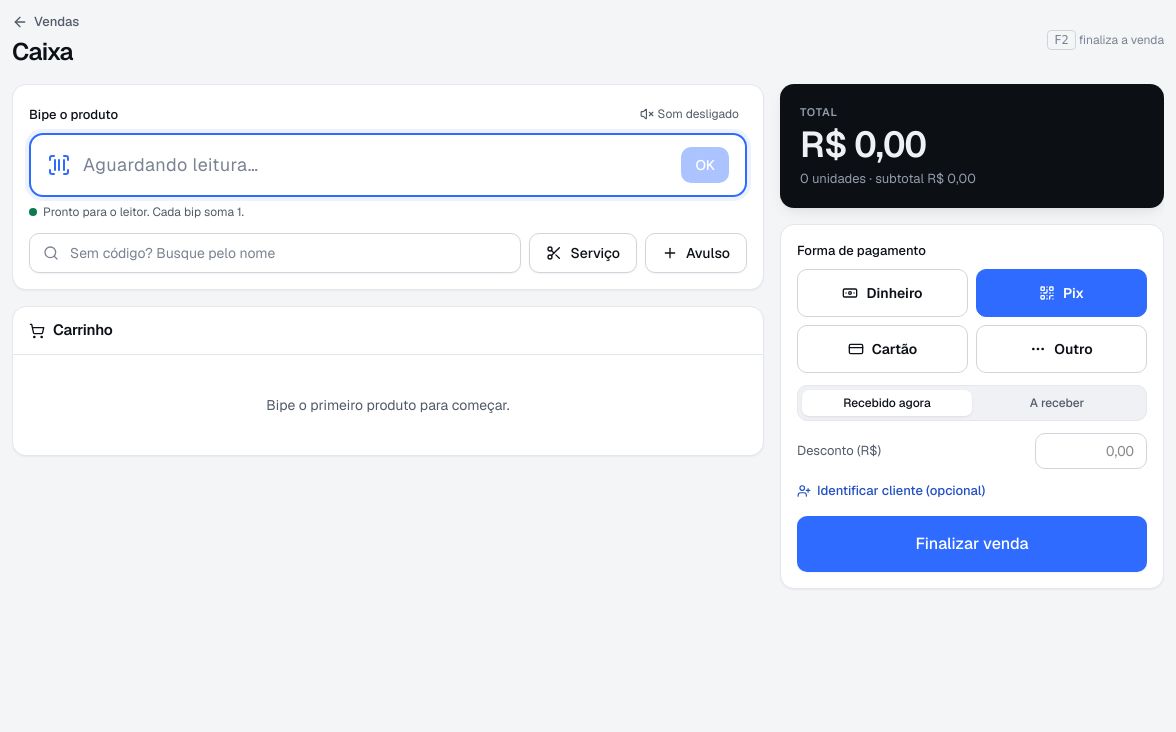
Scenario: Caixa (PDV) › bipar o mesmo produto soma na mesma linha e o total acompanha
Type "7891000000011" into the field labelled "Bipe o produto". click: (376, 165)
box: [83,135,670,195]
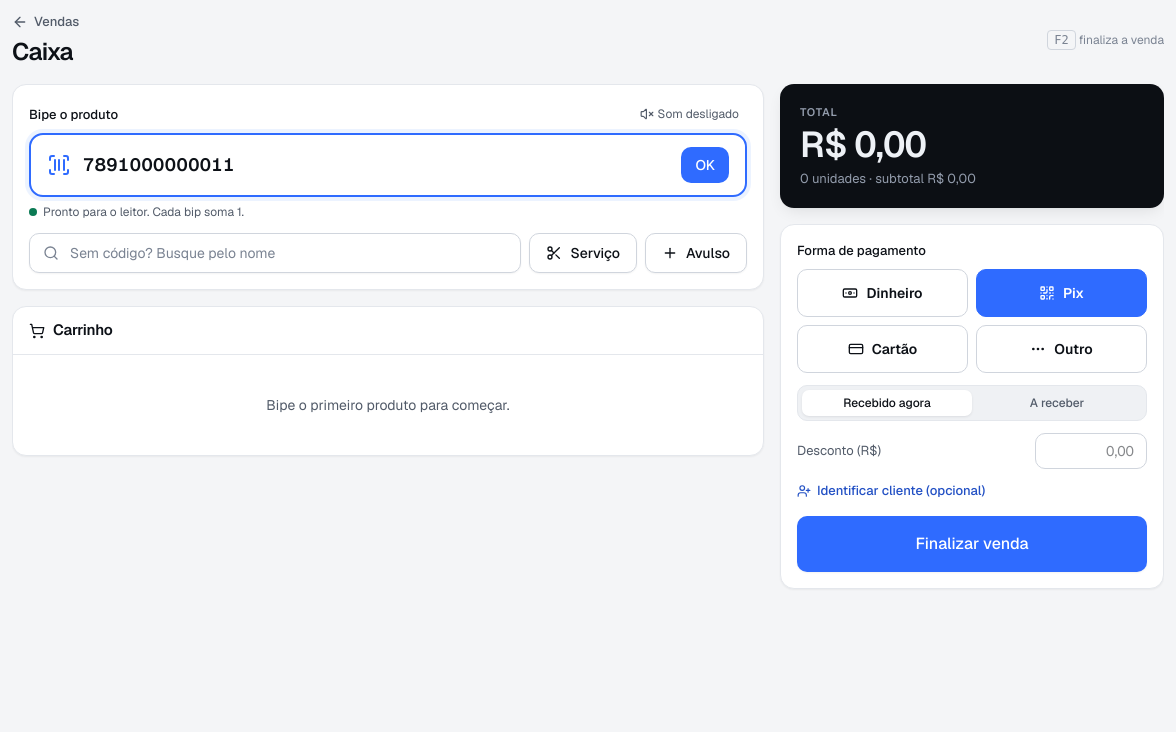
Press Enter in the field labelled "Bipe o produto", box [83,135,670,195]
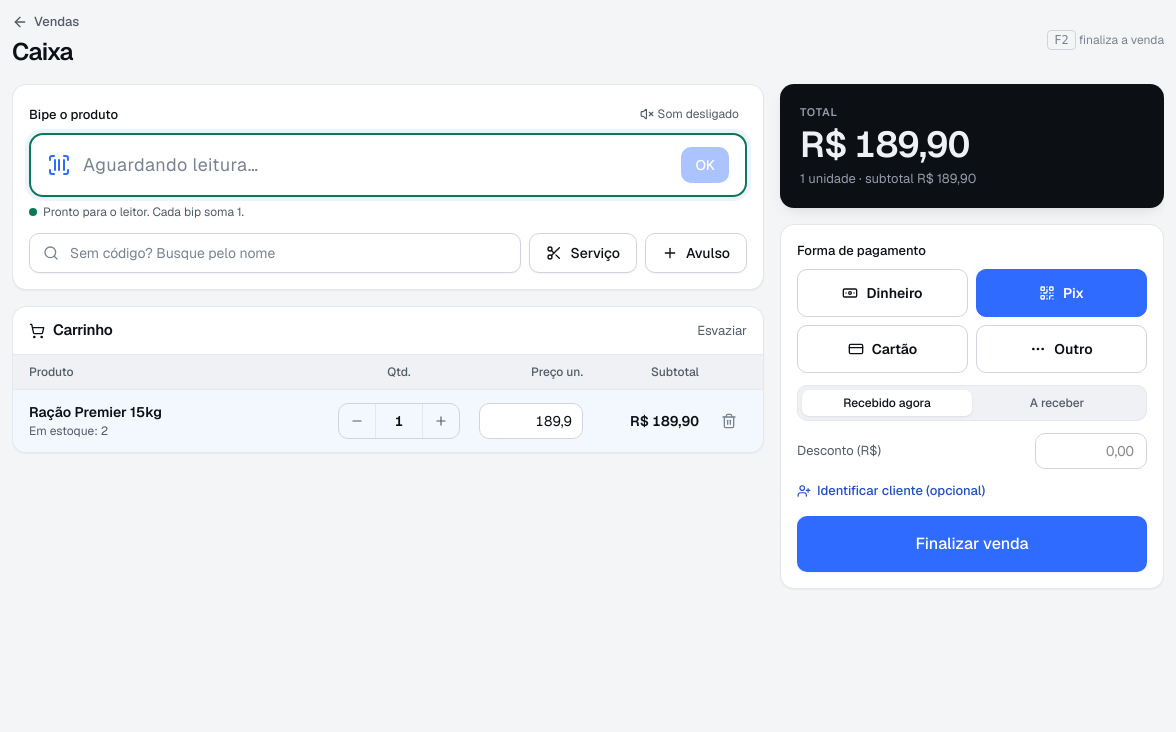
Expected: the field named "Quantidade de Ração Premier 15kg" holds "1", [375,404,423,438]
Type "7891000000011" into the field labelled "Bipe o produto". click: (376, 165)
box: [83,135,670,195]
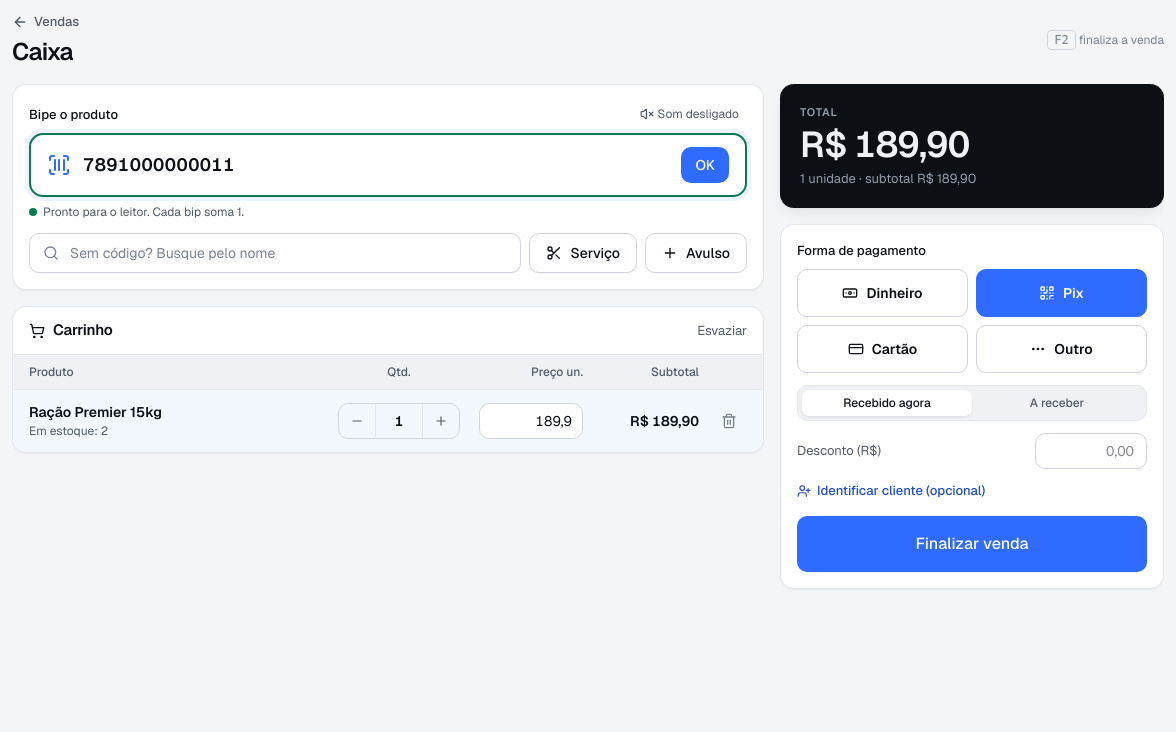
Press Enter in the field labelled "Bipe o produto", box [83,135,670,195]
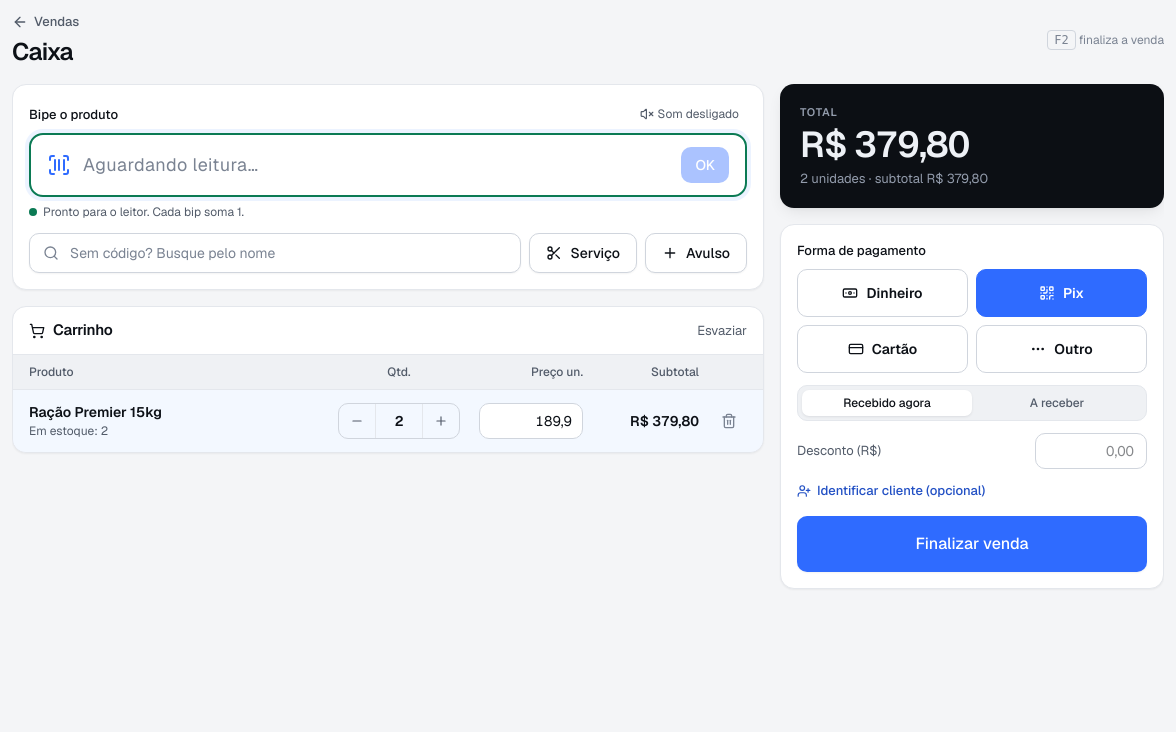
Expected: the number of list items is 1, [13,390,763,452]
Expected: the field named "Quantidade de Ração Premier 15kg" holds "2", [375,404,423,438]
Expected: the text "R$ 379,80" in the row of "Ração Premier 15kg" is shown, [630,412,699,430]
